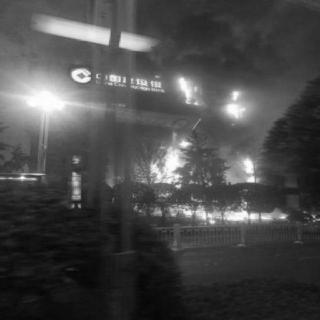other: (65, 66, 163, 96)
